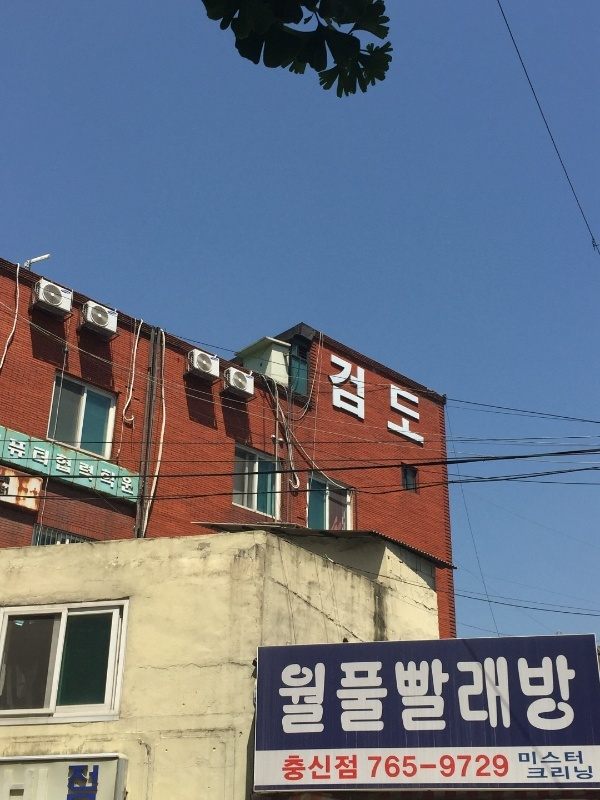text: (337, 352, 352, 449), (353, 352, 368, 449), (369, 352, 384, 449), (385, 352, 400, 449), (401, 352, 416, 449), (561, 652, 577, 740), (289, 652, 304, 740), (305, 652, 320, 740), (321, 652, 336, 740), (337, 652, 352, 740), (353, 652, 368, 740), (369, 652, 384, 740), (385, 652, 400, 740), (401, 652, 416, 740), (417, 652, 432, 740), (433, 652, 448, 740), (449, 652, 464, 740), (465, 652, 480, 740), (481, 652, 496, 740), (497, 652, 512, 740), (513, 652, 528, 740), (529, 652, 544, 740), (545, 652, 560, 740), (17, 435, 32, 498), (33, 435, 48, 498), (49, 435, 64, 498), (65, 435, 80, 498), (81, 435, 96, 498), (97, 435, 112, 498), (113, 435, 128, 498), (417, 352, 426, 449), (279, 652, 288, 740), (328, 352, 336, 449), (289, 754, 304, 785), (305, 754, 320, 785), (321, 754, 336, 785), (337, 754, 352, 785), (9, 435, 16, 498), (129, 435, 136, 498), (369, 754, 384, 783), (385, 754, 400, 783), (401, 754, 416, 783), (417, 754, 432, 783), (433, 754, 448, 783), (449, 754, 464, 783), (465, 754, 480, 783), (481, 754, 496, 783), (497, 754, 509, 783), (529, 766, 544, 781), (545, 766, 560, 781), (561, 766, 576, 781), (577, 766, 592, 781), (529, 751, 544, 766), (545, 751, 560, 766), (561, 751, 576, 766), (282, 754, 288, 785), (353, 754, 358, 785), (519, 751, 528, 766), (577, 751, 584, 766), (367, 754, 368, 783), (593, 766, 594, 781)
